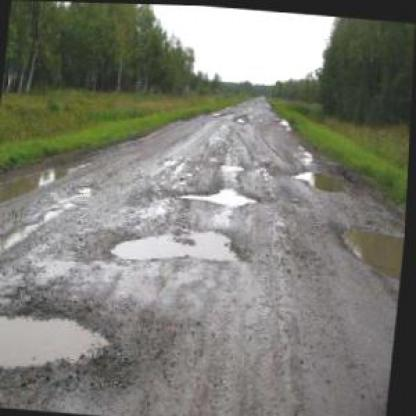pothole: (110, 216, 256, 268), (336, 218, 406, 273), (178, 179, 262, 208), (291, 161, 347, 193), (219, 157, 248, 172), (277, 112, 294, 129)
